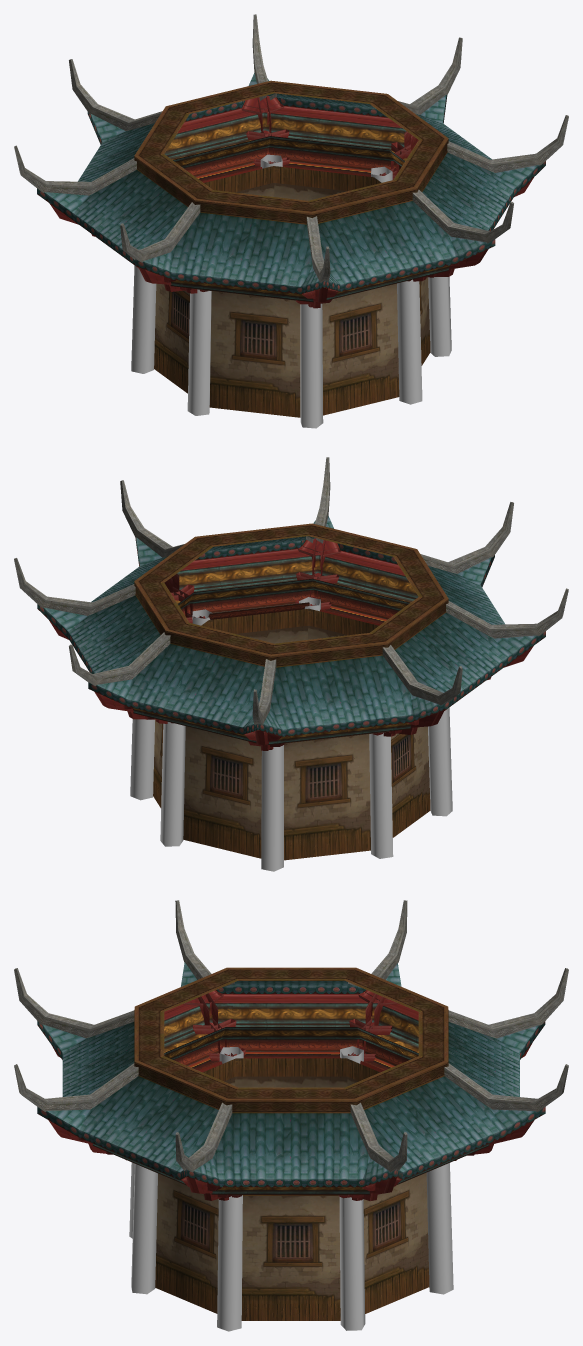
File: environment_Building_tower_003_a.FBX
3 renders of one model, top to bottom at view 1: azimuth 30°, elevation 25°; view 2: azimuth 150°, elevation 25°; view 3: azimuth 270°, elevation 25°, orthographic. The views are drawn at different scales.
Visible parts, largest first — view 1: environment_Building_tower_003_a2, environment_Building_tower_003_a5, environment_Building_tower_003_a1, environment_Building_tower_003_a4, environment_Building_tower_003_a3; view 2: environment_Building_tower_003_a2, environment_Building_tower_003_a5, environment_Building_tower_003_a1, environment_Building_tower_003_a4, environment_Building_tower_003_a3; view 3: environment_Building_tower_003_a2, environment_Building_tower_003_a5, environment_Building_tower_003_a1, environment_Building_tower_003_a4, environment_Building_tower_003_a3.
Boxes of the visible parts, bbox=[...] form: environment_Building_tower_003_a2: bbox=[37, 72, 545, 308]; environment_Building_tower_003_a5: bbox=[154, 166, 430, 417]; environment_Building_tower_003_a1: bbox=[134, 80, 448, 300]; environment_Building_tower_003_a4: bbox=[131, 154, 451, 428]; environment_Building_tower_003_a3: bbox=[14, 14, 568, 282]; environment_Building_tower_003_a2: bbox=[37, 516, 545, 750]; environment_Building_tower_003_a5: bbox=[153, 608, 430, 860]; environment_Building_tower_003_a1: bbox=[134, 523, 448, 743]; environment_Building_tower_003_a4: bbox=[130, 597, 452, 871]; environment_Building_tower_003_a3: bbox=[14, 457, 568, 725]; environment_Building_tower_003_a2: bbox=[37, 962, 545, 1201]; environment_Building_tower_003_a5: bbox=[155, 1058, 429, 1320]; environment_Building_tower_003_a1: bbox=[134, 967, 448, 1195]; environment_Building_tower_003_a4: bbox=[129, 1046, 453, 1331]; environment_Building_tower_003_a3: bbox=[14, 900, 568, 1172].
Size of the model in its own units: 1610 by 789 by 1610.
